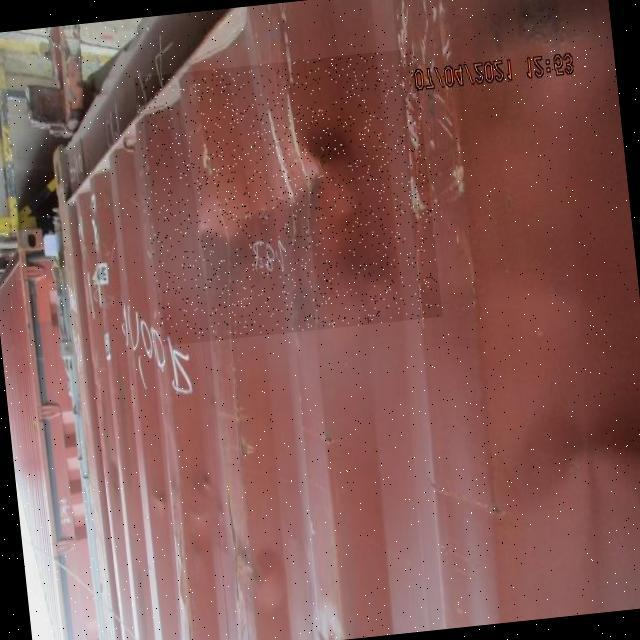Dent: (134, 48, 443, 346)
